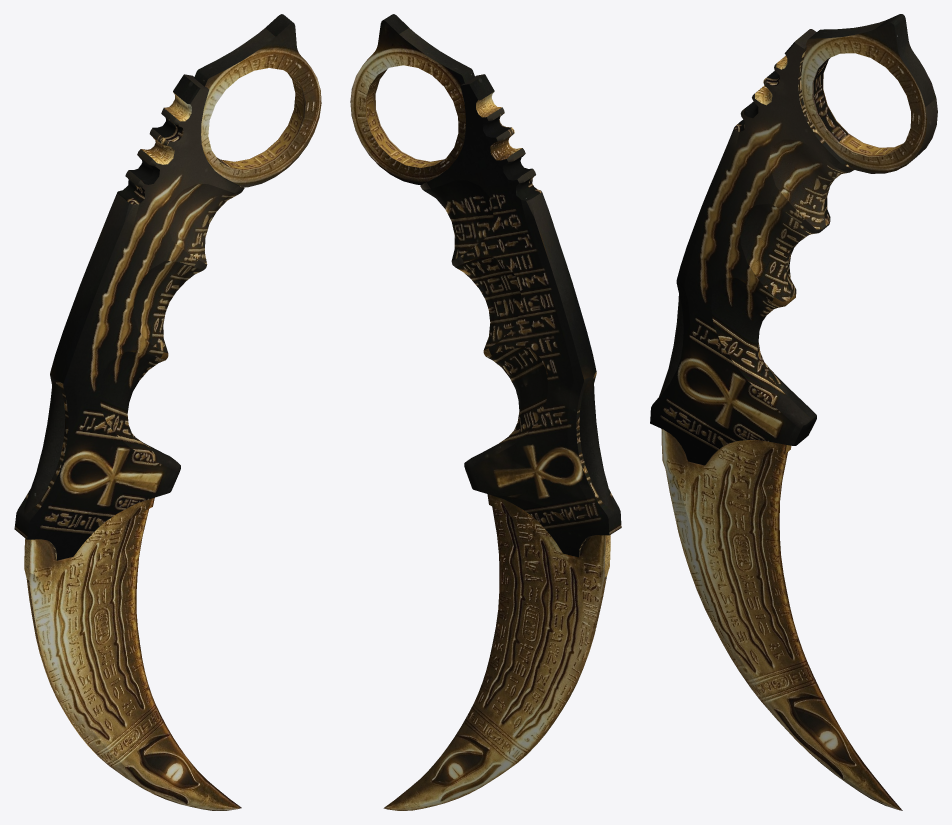
Rendered from karambit.glb.
3 renders of one model, left to right at view 1: azimuth 30°, elevation 25°; view 2: azimuth 150°, elevation 25°; view 3: azimuth 330°, elevation 25°, orthographic. The views are drawn at different scales.
Visible parts, largest first — view 1: Karambit; view 2: Karambit; view 3: Karambit.
Part boxes in pixels (x1,y1,x2,y2): Karambit: [14, 14, 321, 810]; Karambit: [350, 14, 621, 810]; Karambit: [650, 14, 937, 810].
Bounding box in the file's own units: 0.0701 × 0.19 × 0.0143.
1 material, 1 textured.
